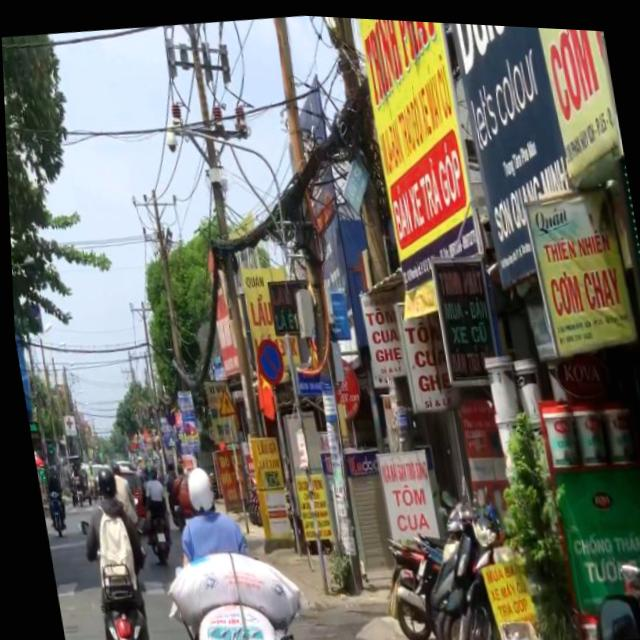Cam do xe: (249, 333, 283, 385)
Nguoi di bo cat ngang: (212, 385, 234, 414)
